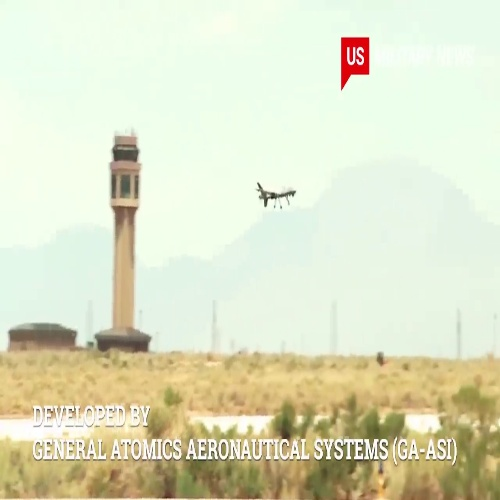uav: (255, 177, 296, 210)
